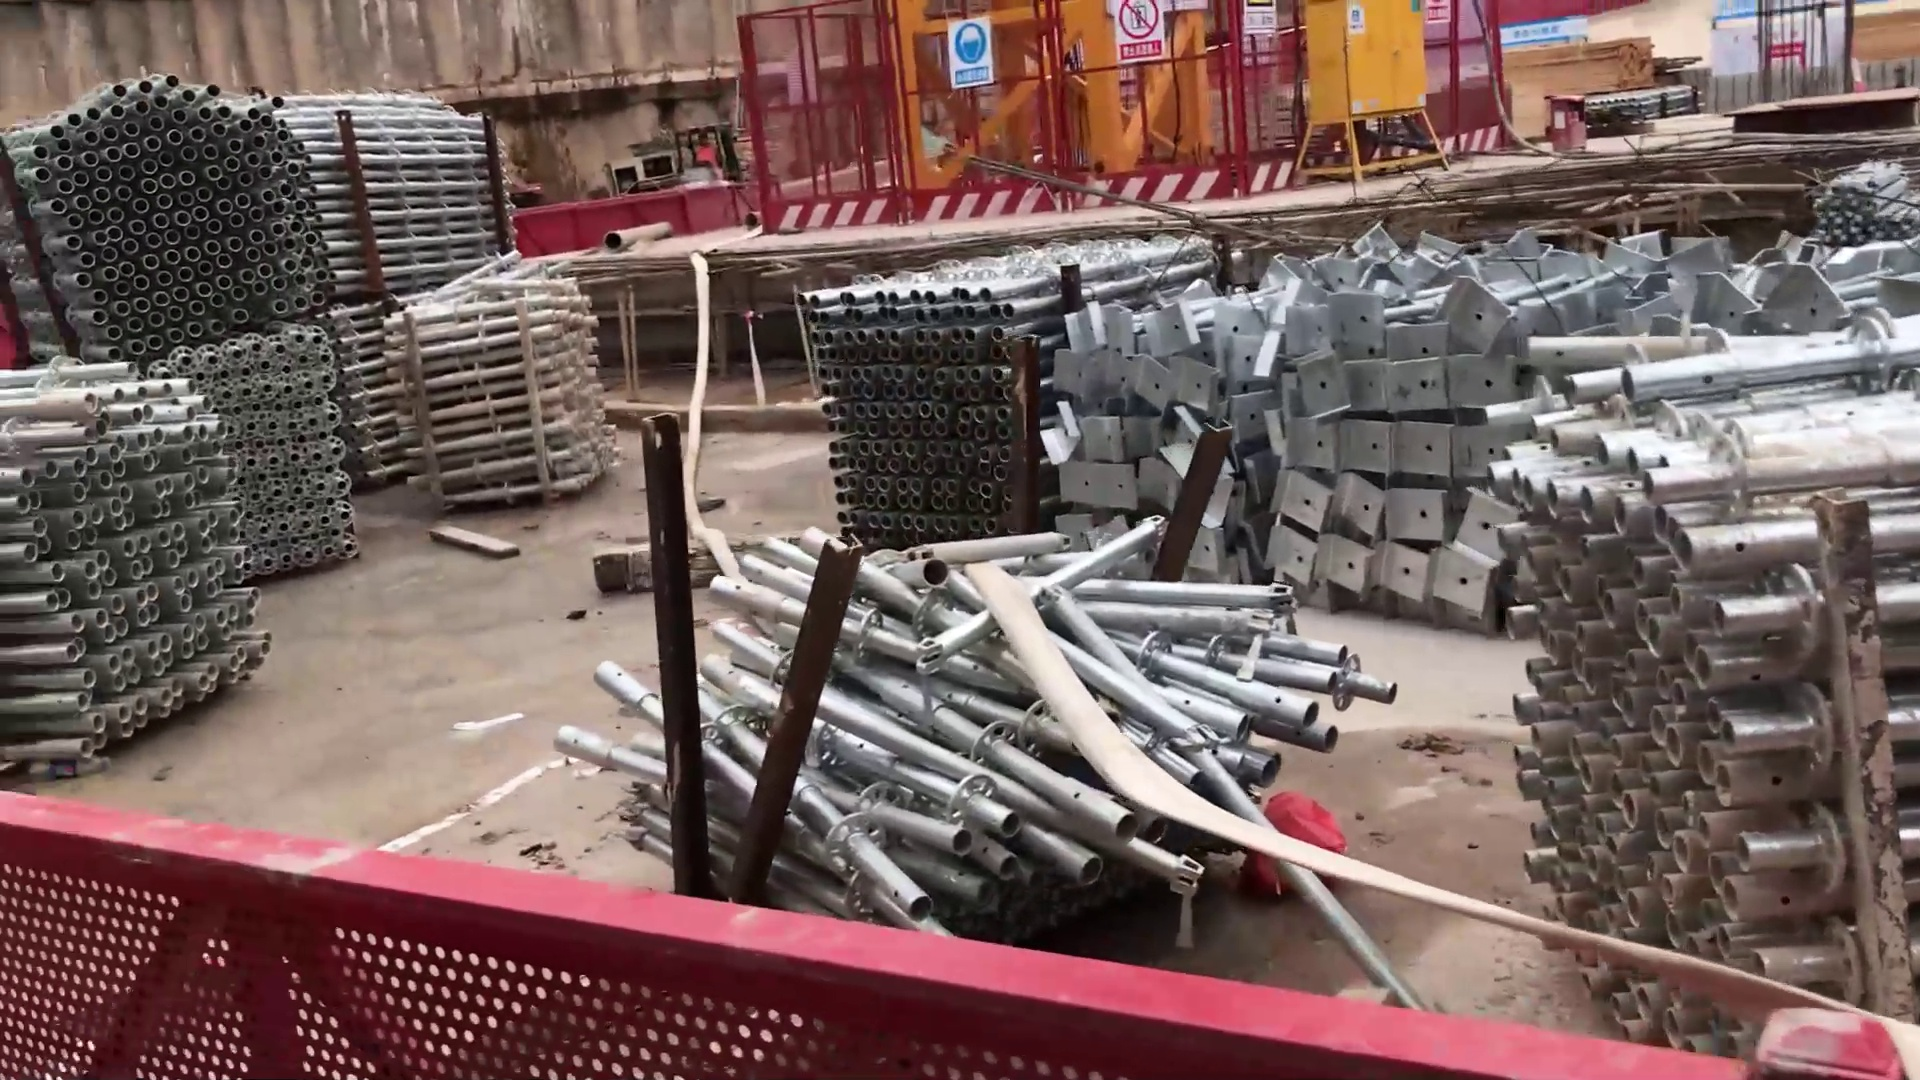ebox: (1280, 1, 1445, 193)
fence: (1, 789, 1729, 1080)
scaffold: (553, 513, 1407, 938), (1511, 229, 1920, 1046), (1, 330, 356, 803), (15, 74, 575, 349), (808, 235, 1234, 545), (1278, 229, 1534, 612), (397, 272, 625, 506)
slogan: (936, 13, 1007, 94), (1480, 16, 1592, 57), (1120, 1, 1180, 76), (1222, 1, 1291, 53)
wood: (1495, 26, 1662, 105)
